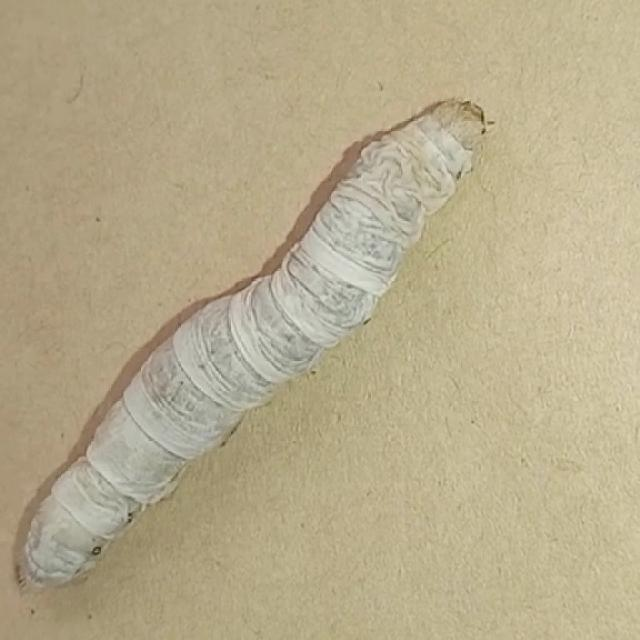Grasserie: (2, 78, 512, 620)
